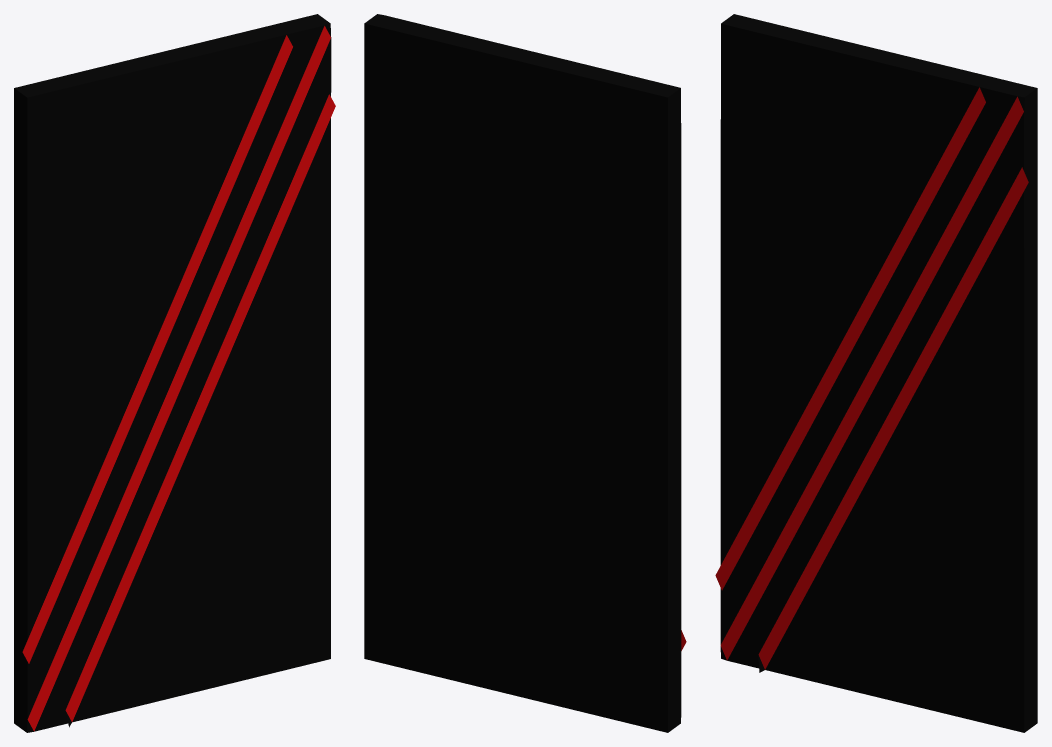
File: Wall 1.fbx
The picture shows the model from 3 angles, left to right: view 1: azimuth 30°, elevation 25°; view 2: azimuth 150°, elevation 25°; view 3: azimuth 330°, elevation 25°; orthographic projection.
Parts seen in each view (by area): view 1: Cube; view 2: Cube; view 3: Cube.
Part boxes in pixels (x1=…): Cube: x1=14, y1=14, x2=335, y2=732; Cube: x1=364, y1=14, x2=686, y2=732; Cube: x1=715, y1=14, x2=1037, y2=732.
Size of the model in its own units: 206 by 402 by 16.89.
